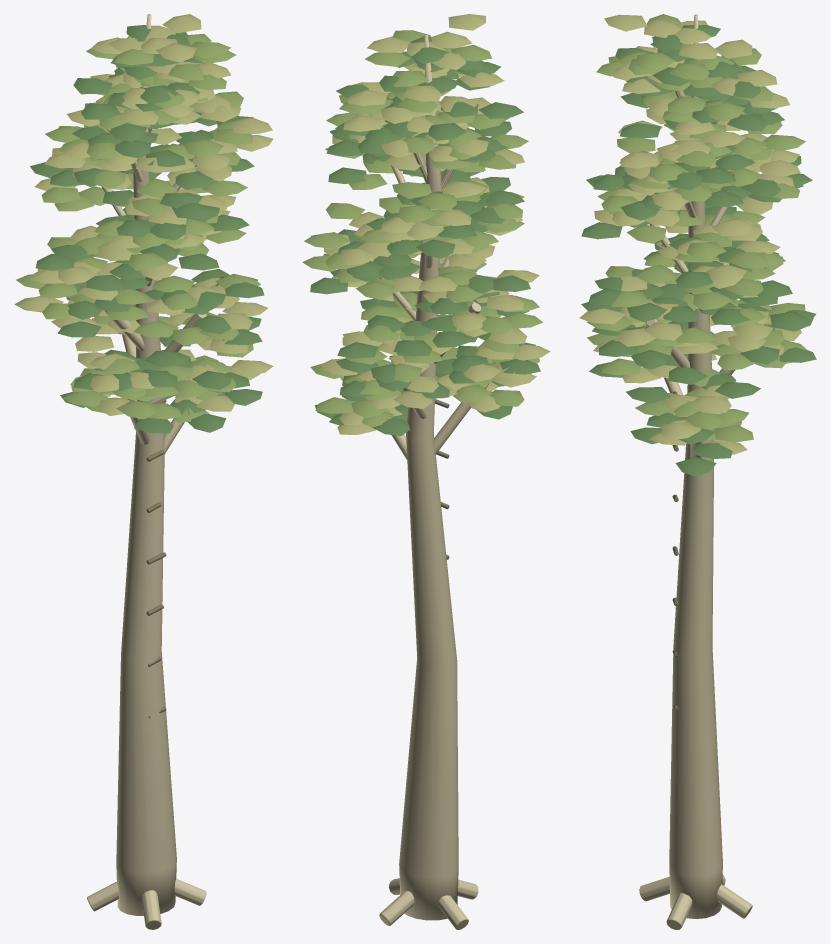
The model's file is cozy_aspen_tree.glb.
3 views of the same model, side by side, from view 1: azimuth 30°, elevation 25°; view 2: azimuth 150°, elevation 25°; view 3: azimuth 270°, elevation 25° (orthographic). The views are drawn at different scales.
Visible parts, largest first — view 1: aspen_tree_BirchBark, Crown_GroveLeafLight, Crown_GroveLeaf, Crown_GroveLeafGold; view 2: aspen_tree_BirchBark, Crown_GroveLeaf, Crown_GroveLeafGold, Crown_GroveLeafLight; view 3: Crown_GroveLeaf, Crown_GroveLeafLight, aspen_tree_BirchBark, Crown_GroveLeafGold.
Part boxes in pixels (left/top/right/bottom): aspen_tree_BirchBark: left=83, top=14, right=206, bottom=929; Crown_GroveLeafLight: left=14, top=34, right=261, bottom=422; Crown_GroveLeaf: left=30, top=25, right=264, bottom=433; Crown_GroveLeafGold: left=18, top=14, right=273, bottom=419; aspen_tree_BirchBark: left=371, top=34, right=489, bottom=929; Crown_GroveLeaf: left=310, top=36, right=540, bottom=435; Crown_GroveLeafGold: left=311, top=14, right=550, bottom=434; Crown_GroveLeafLight: left=302, top=30, right=543, bottom=427; Crown_GroveLeaf: left=581, top=25, right=816, bottom=476; Crown_GroveLeafLight: left=587, top=14, right=807, bottom=441; aspen_tree_BirchBark: left=639, top=14, right=752, bottom=929; Crown_GroveLeafGold: left=579, top=14, right=801, bottom=454.
Bounding box in the file's own units: 0.8404 × 3.12 × 0.7521.
